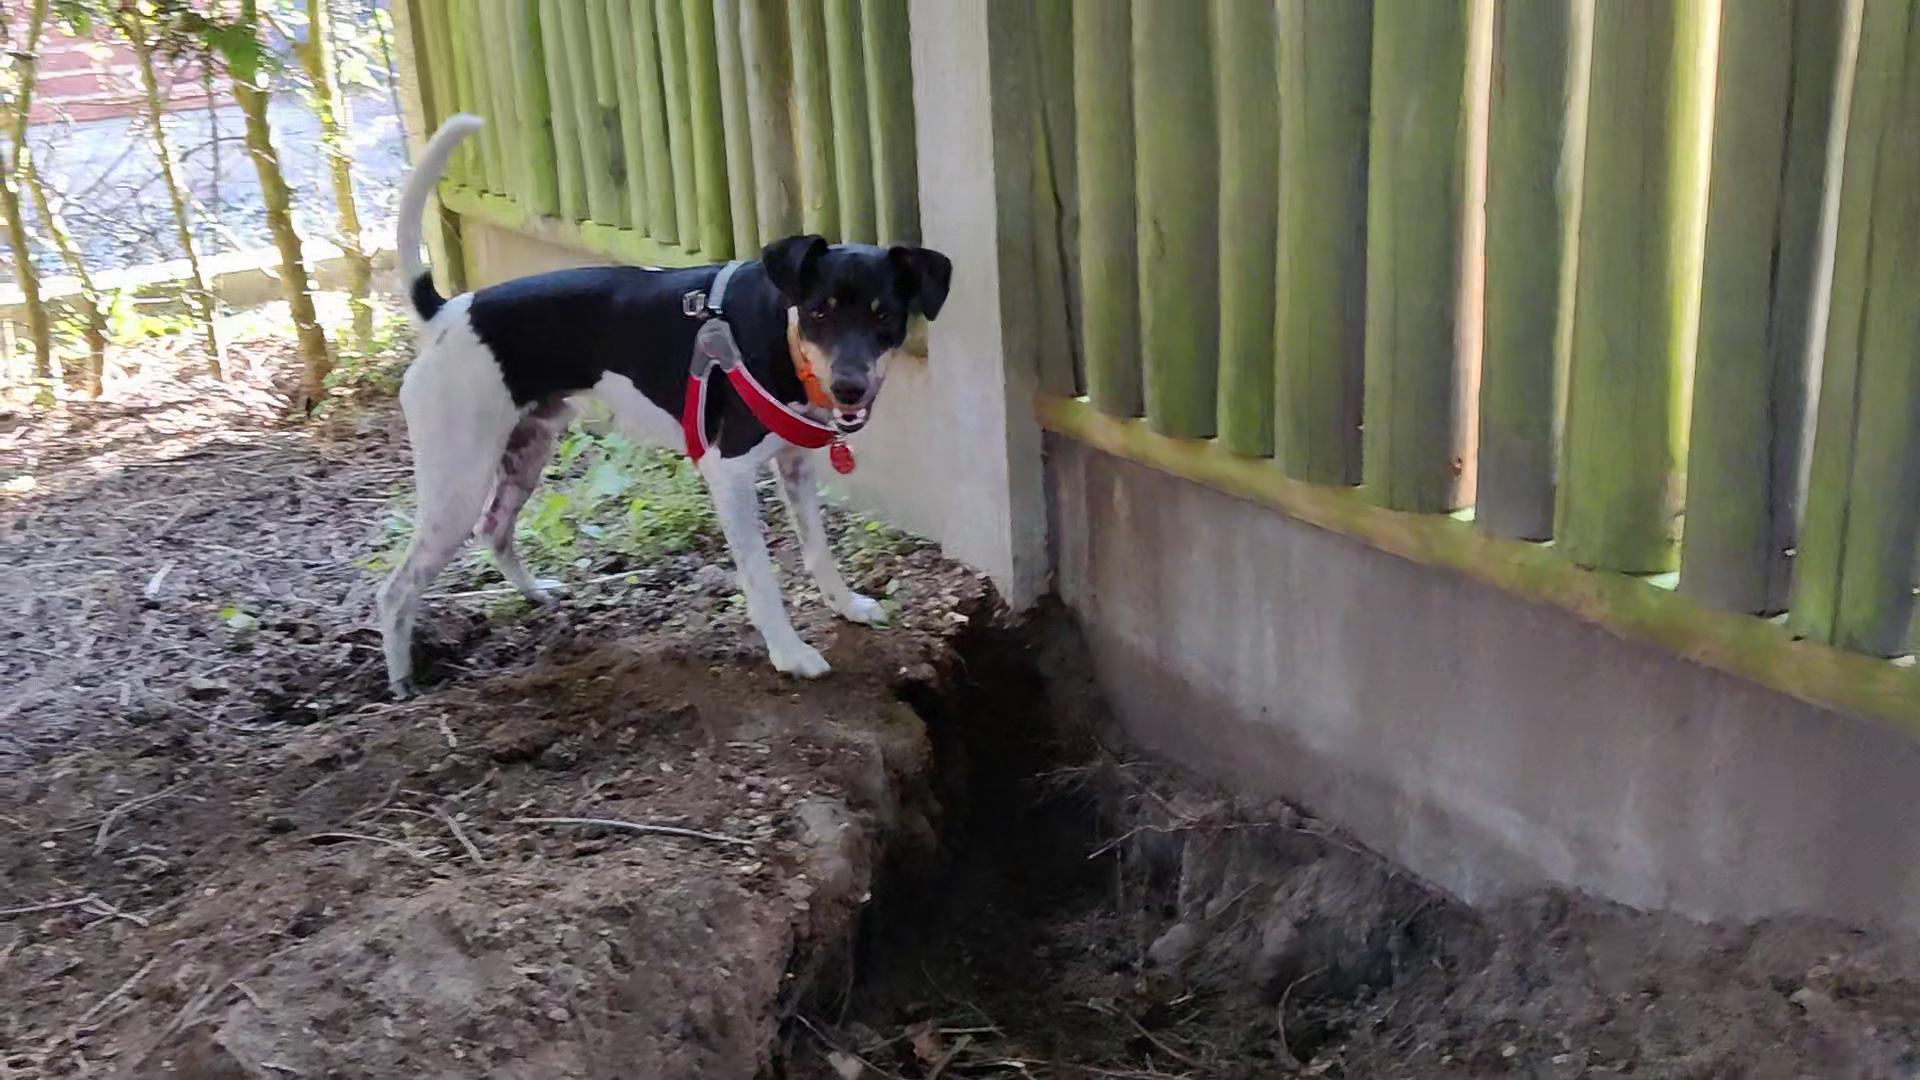Dog: (369, 100, 967, 708)
